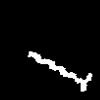half_double_crochet: (28, 52, 91, 90)
